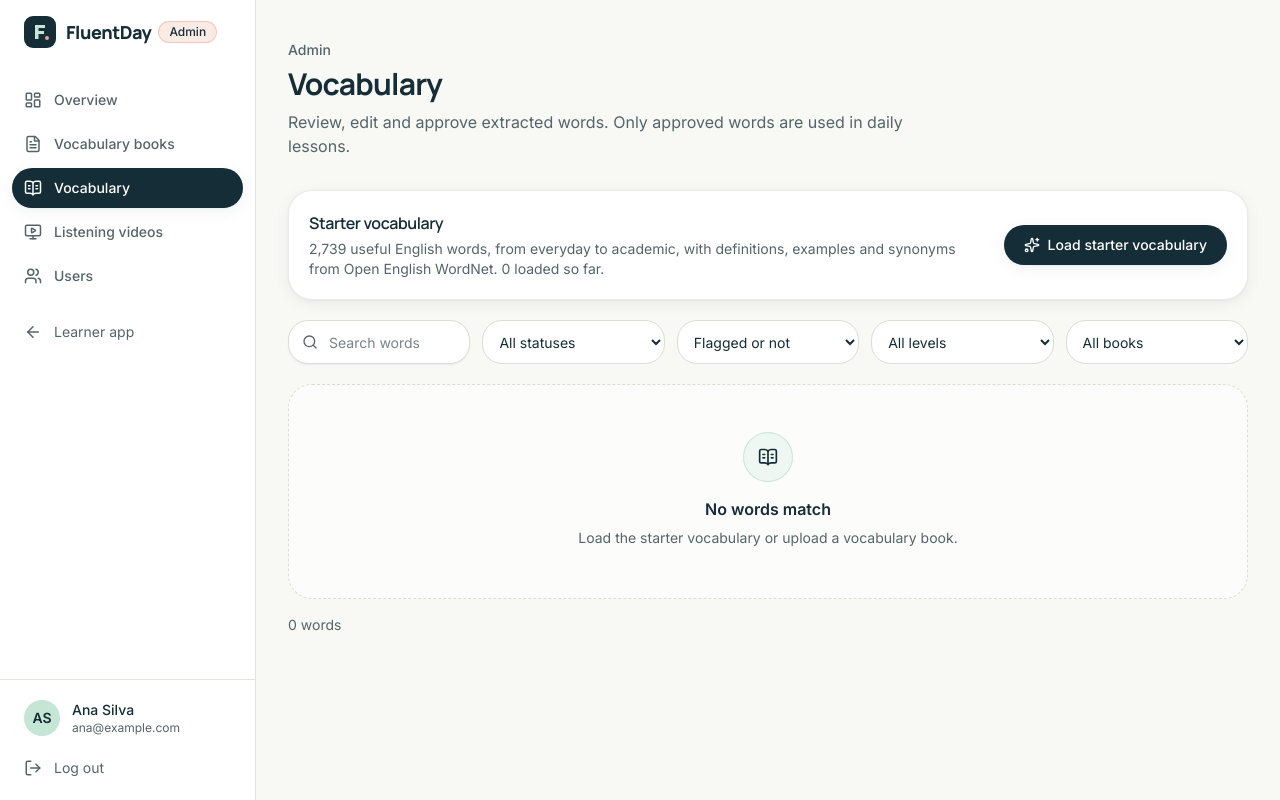
Test: starter vocabulary › loads the bundled word list and shows where each word came from
Expected: the text "2,739 useful English words, from everyday to academic" is shown, [309,239,981,279]
Expected: the text "Load the starter vocabulary or upload a vocabulary book." is shown, [578,527,958,550]
Click the button "Load starter vocabulary".
click(1115, 245)  # box [1004,225,1227,265]
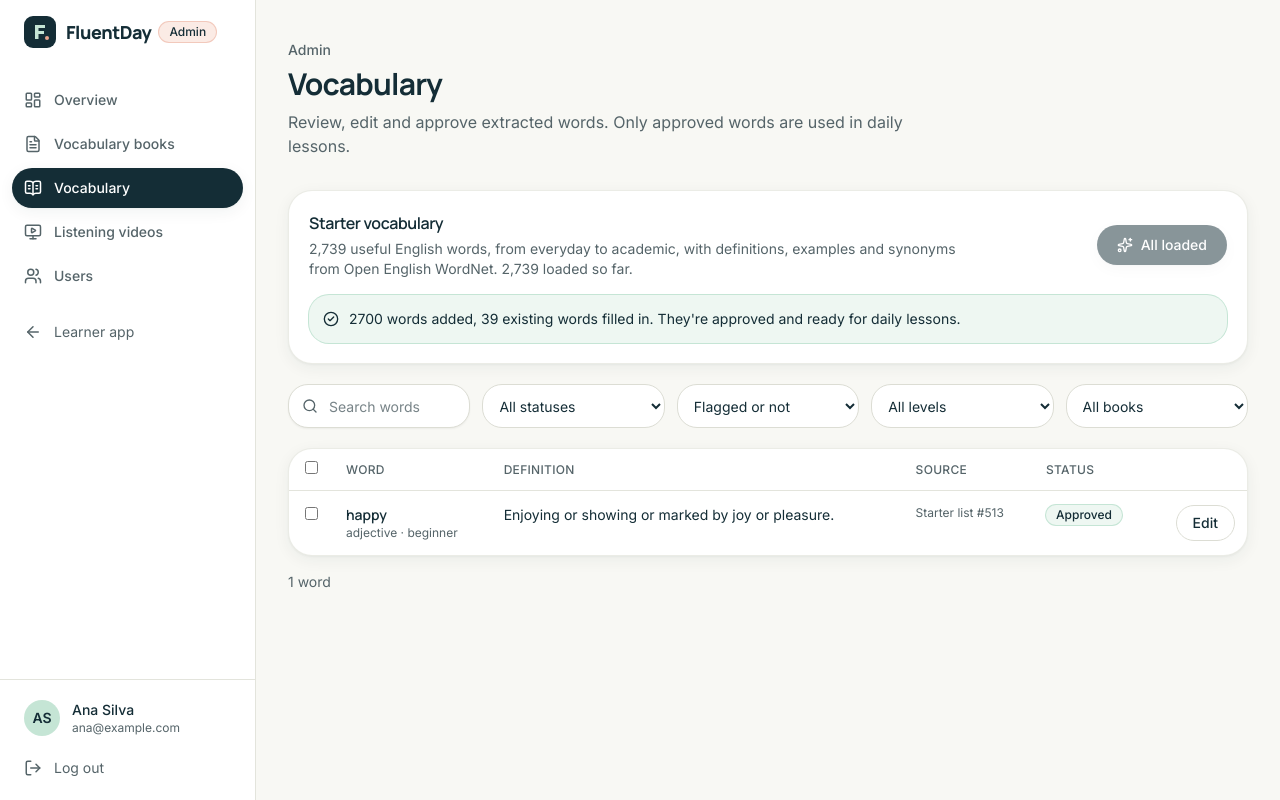
Now the text "2700 words added, 39 existing words filled in" is shown, box [349,310,961,327]
Now the text "Starter list #513" is shown, box [916,505,1004,520]
Now the button "All loaded" is disabled, box [1097,225,1227,265]
